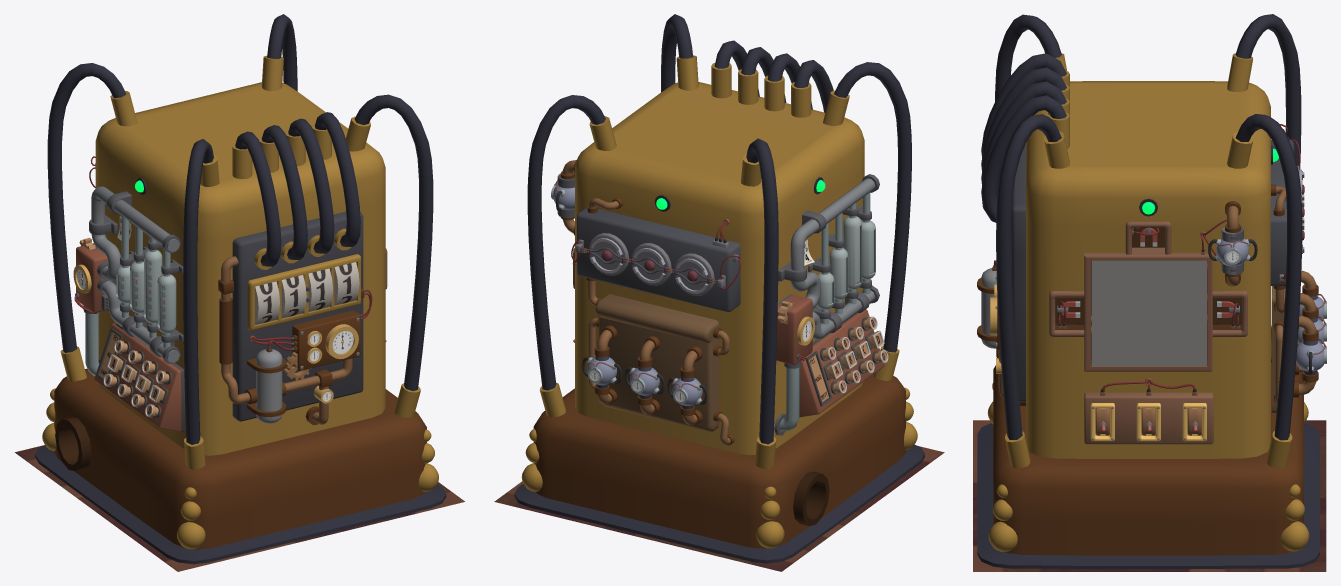
The model's file is Bomb (2).fbx.
3 views of the same model, side by side, from view 1: azimuth 30°, elevation 25°; view 2: azimuth 150°, elevation 25°; view 3: azimuth 270°, elevation 25° (orthographic). The views are drawn at different scales.
Parts seen in each view (by area): view 1: PuzzleMachine_Body, Clock_Digits.001, Clock_Digits.002, Clock_Digits.003, Clock_Digits; view 2: PuzzleMachine_Body, Circuit_Disk_03, Circuit_Disk_02, Circuit_Disk_01, Generator_Steamcore_Body, Generator_Steamcore_Body.002, Generator_Steamcore_Body.001; view 3: PuzzleMachine_Body, Generator_Steamcore_Body.003, Generator_Steamcore_Body.002.
Boxes of the visible parts, x1,y1,x2,y2 form: PuzzleMachine_Body: (15,14,464,571); Clock_Digits.001: (334,262,359,305); Clock_Digits.002: (281,275,306,318); Clock_Digits.003: (255,281,279,324); Clock_Digits: (308,268,332,311); PuzzleMachine_Body: (494,14,944,571); Circuit_Disk_03: (670,253,714,295); Circuit_Disk_02: (627,243,671,285); Circuit_Disk_01: (584,233,628,275); Generator_Steamcore_Body: (667,377,707,409); Generator_Steamcore_Body.002: (582,356,621,388); Generator_Steamcore_Body.001: (625,366,664,398); PuzzleMachine_Body: (973,14,1326,571); Generator_Steamcore_Body.003: (1208,238,1257,265); Generator_Steamcore_Body.002: (1296,339,1326,375).
Size of the model in its own units: 271 by 361 by 267.
Materials: 68 (12 with a texture image).
